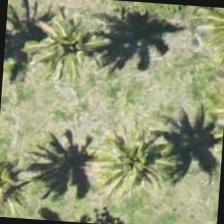Kelapa_Sawit: (20, 0, 117, 96), (92, 107, 188, 203)
